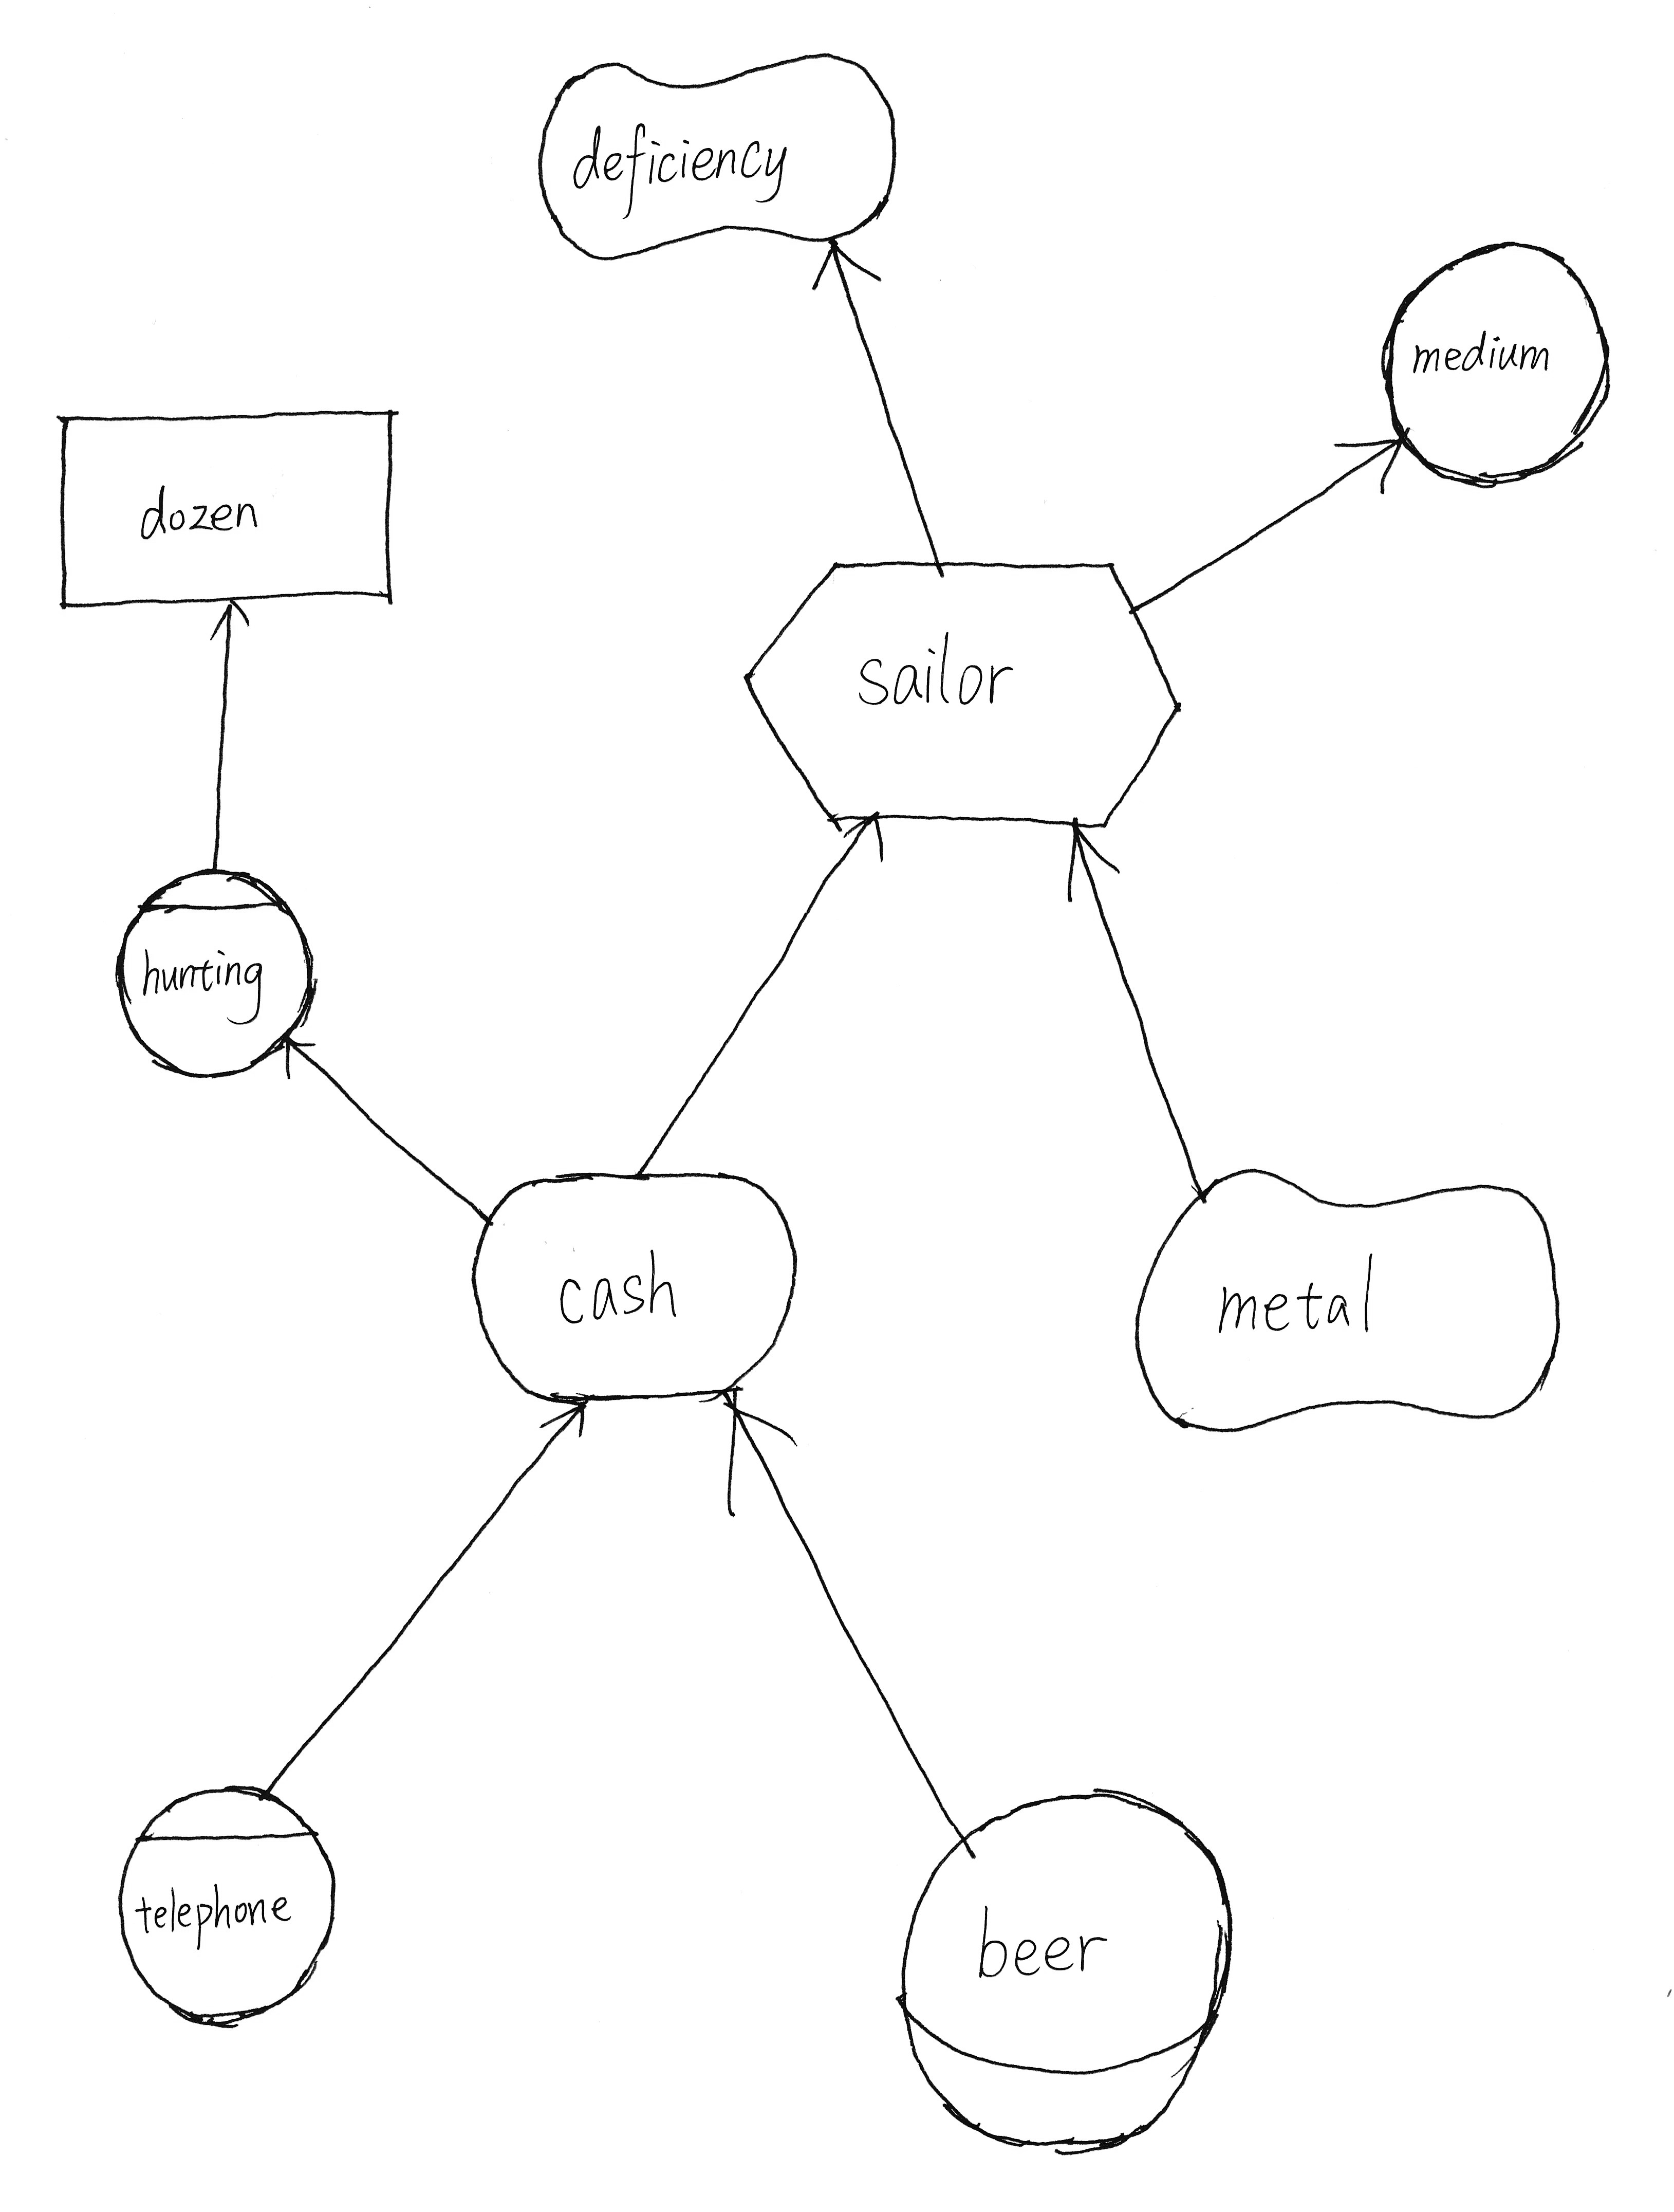actor: (1361, 218, 1635, 508)
agent: (98, 1757, 359, 2050), (98, 851, 329, 1092)
arrow: (698, 1373, 816, 1524), (508, 1357, 617, 1466), (1039, 802, 1134, 913), (1324, 413, 1426, 512), (790, 218, 886, 306), (816, 788, 904, 874), (185, 580, 273, 651), (260, 1008, 331, 1092)
goal: (448, 1150, 816, 1426)
quality: (1111, 1152, 1597, 1473), (517, 37, 906, 264)
resource: (26, 378, 418, 624)
role: (867, 1764, 1254, 2170)
task: (717, 528, 1196, 863)
